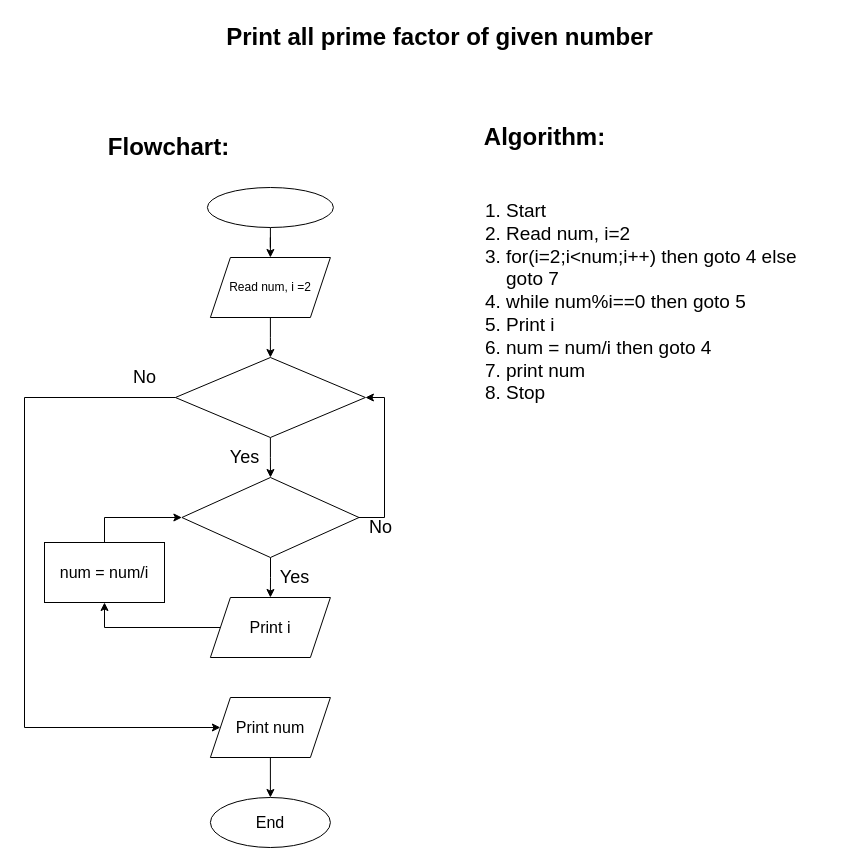
Some shapes in this 842 by 865 pixel diagram are drawn without their labels. Here are the shapes that lost their labels. From the top down, the centre of each, then its label:
point 269,207: Start
point 269,397: for i=2; i< num; i++
point 270,517: while num%i==0
